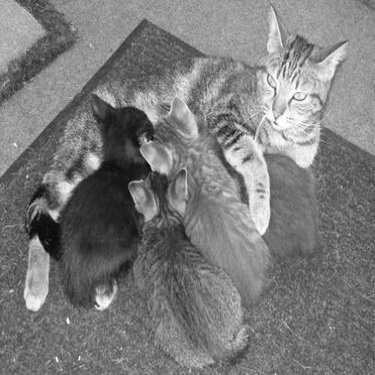cat: (16, 9, 342, 221), (98, 164, 254, 351), (57, 92, 151, 325), (143, 100, 254, 296)
